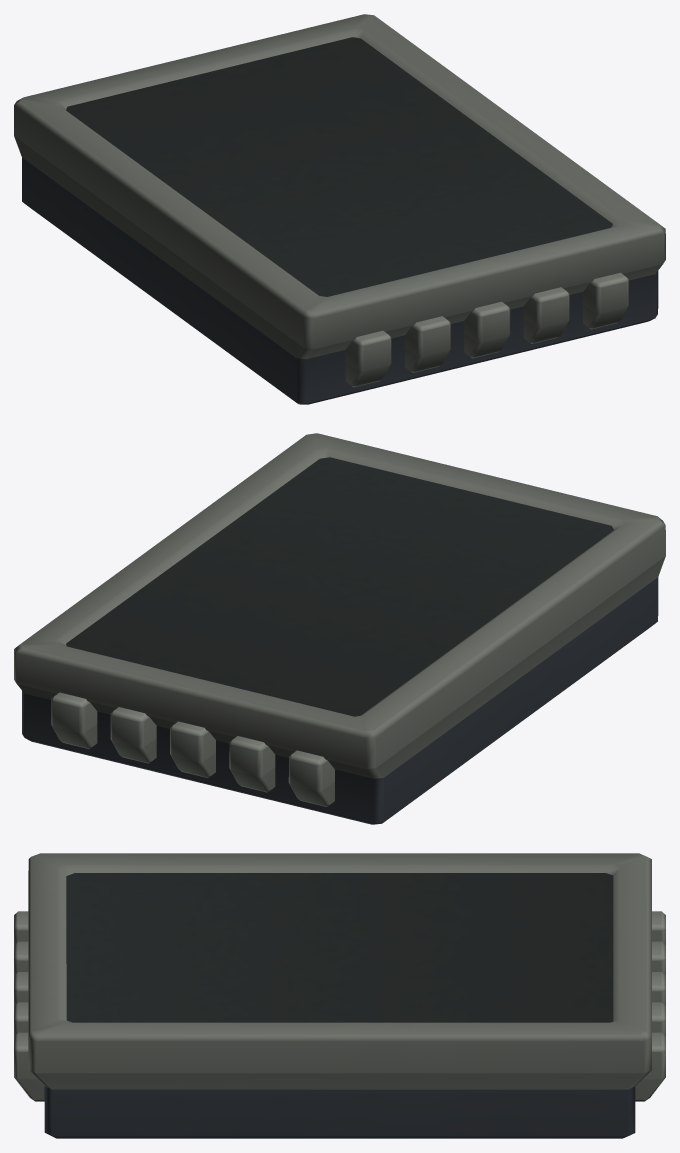
Rendered from appartment_type1_roof_type2_flat_cream.fbx.
The picture shows the model from 3 angles, top to bottom: view 1: azimuth 30°, elevation 25°; view 2: azimuth 150°, elevation 25°; view 3: azimuth 270°, elevation 25°; orthographic projection. The views are drawn at different scales.
Visible parts, largest first — view 1: appartment_type1_roof_type2_flat_cream; view 2: appartment_type1_roof_type2_flat_cream; view 3: appartment_type1_roof_type2_flat_cream.
Boxes of the visible parts, bbox=[...] form: appartment_type1_roof_type2_flat_cream: bbox=[14, 14, 665, 404]; appartment_type1_roof_type2_flat_cream: bbox=[14, 433, 665, 824]; appartment_type1_roof_type2_flat_cream: bbox=[14, 853, 665, 1138].
Size of the model in its own units: 610 by 160 by 907.
